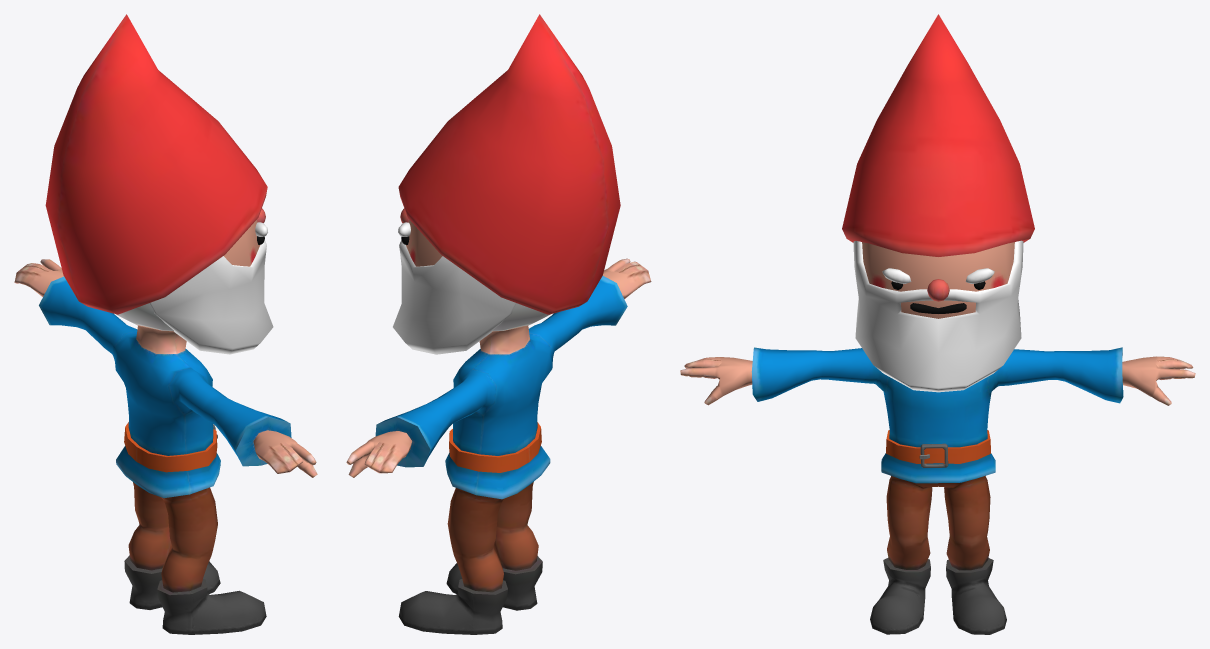
The model's file is tomte.glb.
3 renders of one model, left to right at view 1: azimuth 30°, elevation 25°; view 2: azimuth 150°, elevation 25°; view 3: azimuth 270°, elevation 25°, orthographic. The views are drawn at different scales.
Visible parts, largest first — view 1: mesh_char_133; view 2: mesh_char_133; view 3: mesh_char_133.
Part boxes in pixels (x1,y1,x2,y2): mesh_char_133: (14, 14, 317, 634); mesh_char_133: (346, 14, 651, 634); mesh_char_133: (680, 14, 1195, 634).
Bounding box in the file's own units: 1.86 × 5.26 × 4.31.
Materials: 1 (1 with a texture image).
